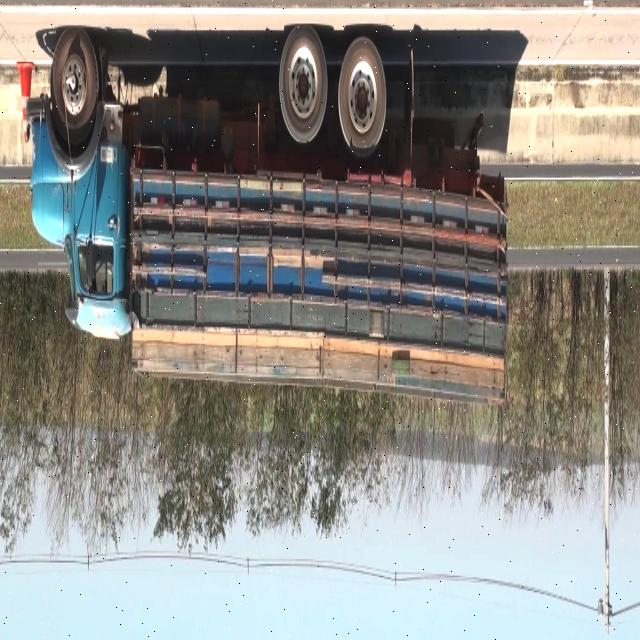-axle: (278, 22, 328, 148), (50, 26, 100, 140), (338, 38, 385, 156)
